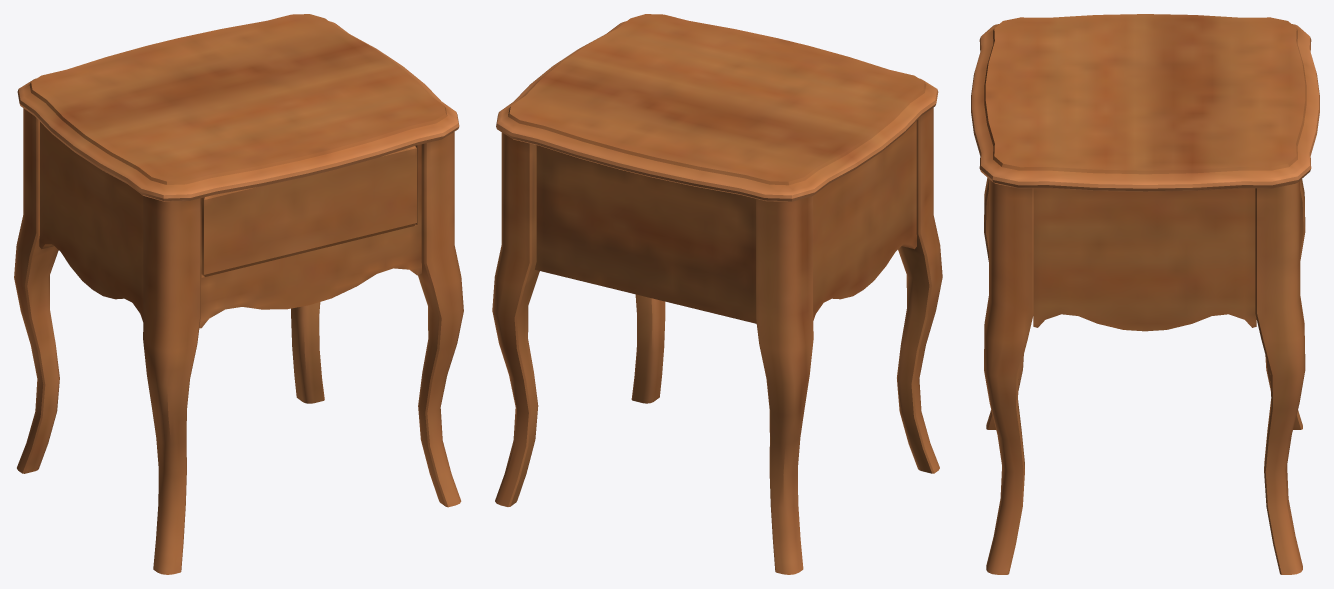
Rendered from table_2.fbx.
The picture shows the model from 3 angles, left to right: view 1: azimuth 30°, elevation 25°; view 2: azimuth 150°, elevation 25°; view 3: azimuth 270°, elevation 25°; orthographic projection. The views are drawn at different scales.
Parts seen in each view (by area): view 1: table_2; view 2: table_2; view 3: table_2.
Part boxes in pixels (bbox=[...]): table_2: bbox=[14, 14, 463, 574]; table_2: bbox=[492, 14, 942, 574]; table_2: bbox=[971, 14, 1319, 574].
Bounding box in the file's own units: 0.7869 × 0.8796 × 0.6864.
